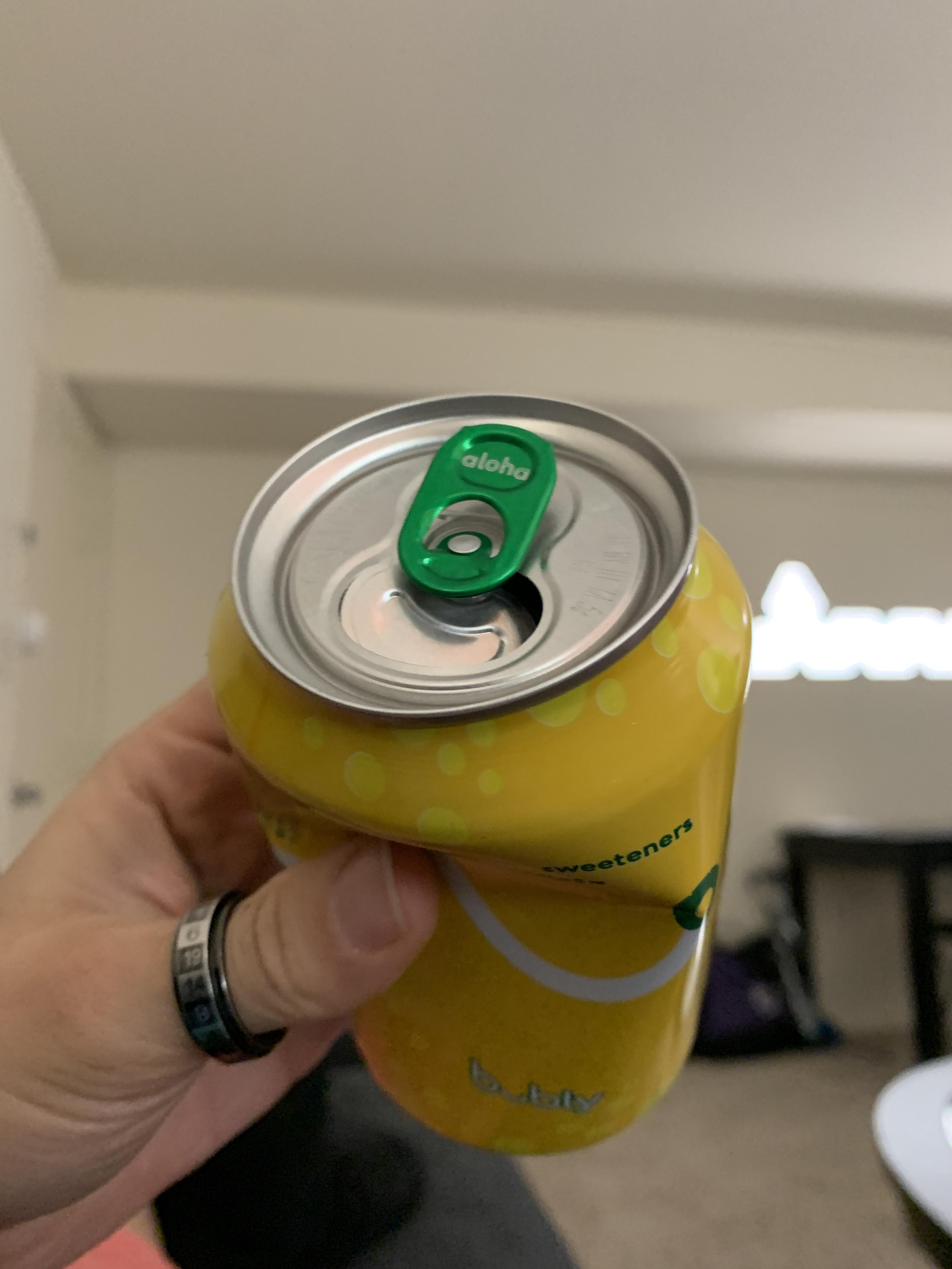metal: (208, 395, 751, 1155)
